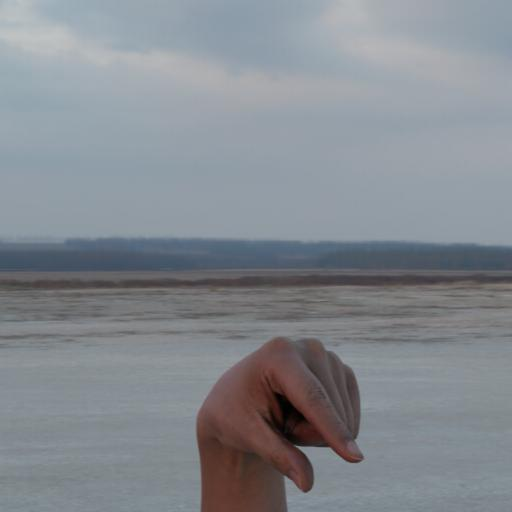Q: (190, 330, 369, 502)
